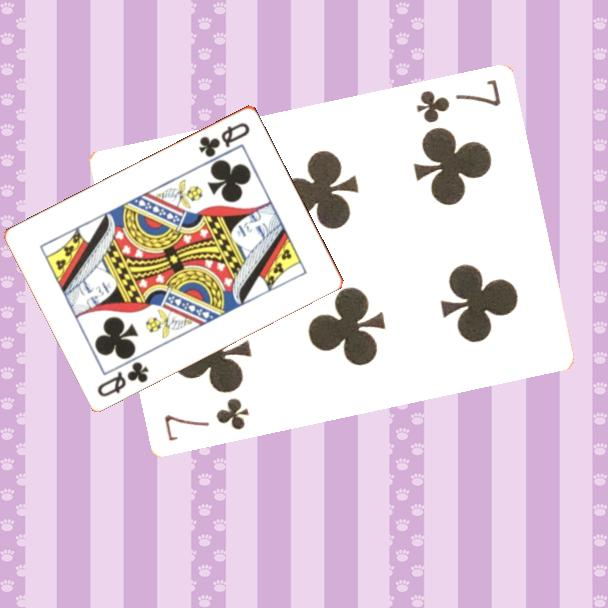c07: (412, 76, 503, 127), (160, 395, 251, 445)
c12: (94, 357, 152, 399), (195, 119, 253, 160)
